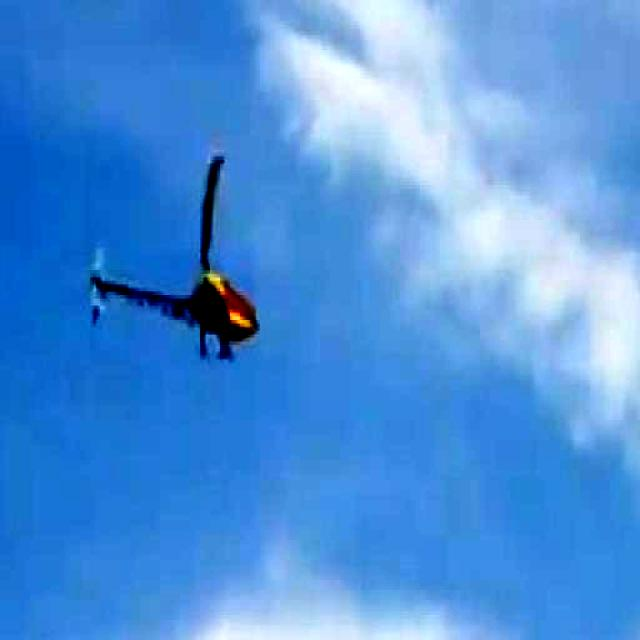drone: (85, 132, 269, 371)
